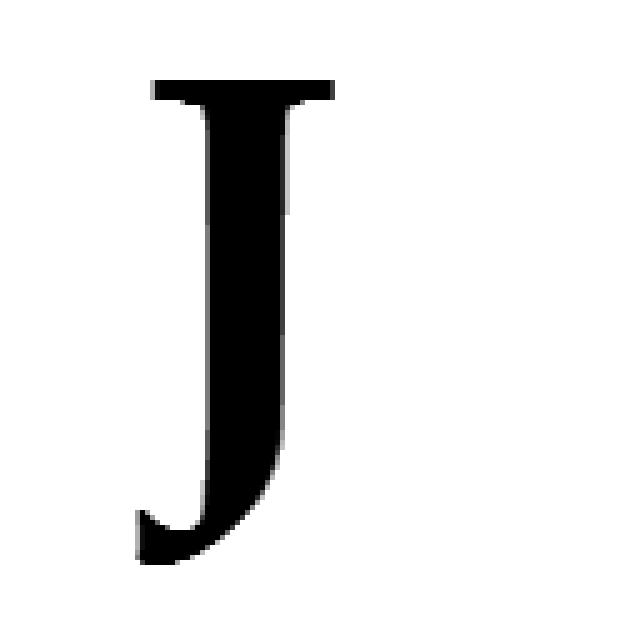J: (125, 70, 340, 570)
